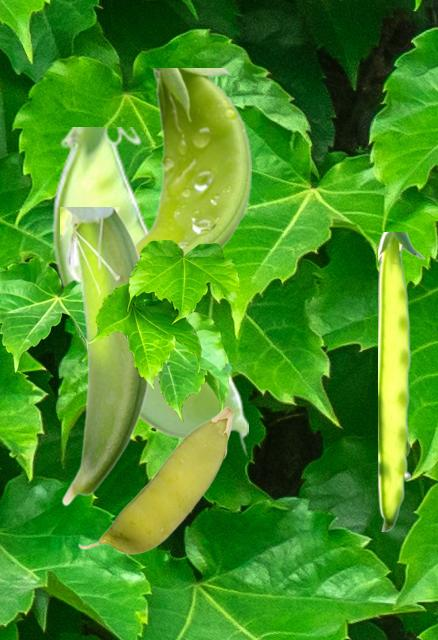pea: (51, 127, 247, 457), (60, 207, 150, 505), (78, 406, 233, 553), (136, 68, 250, 255), (378, 232, 424, 530)
